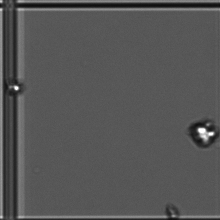Living Cell: (189, 118, 214, 152), (6, 79, 24, 102)
